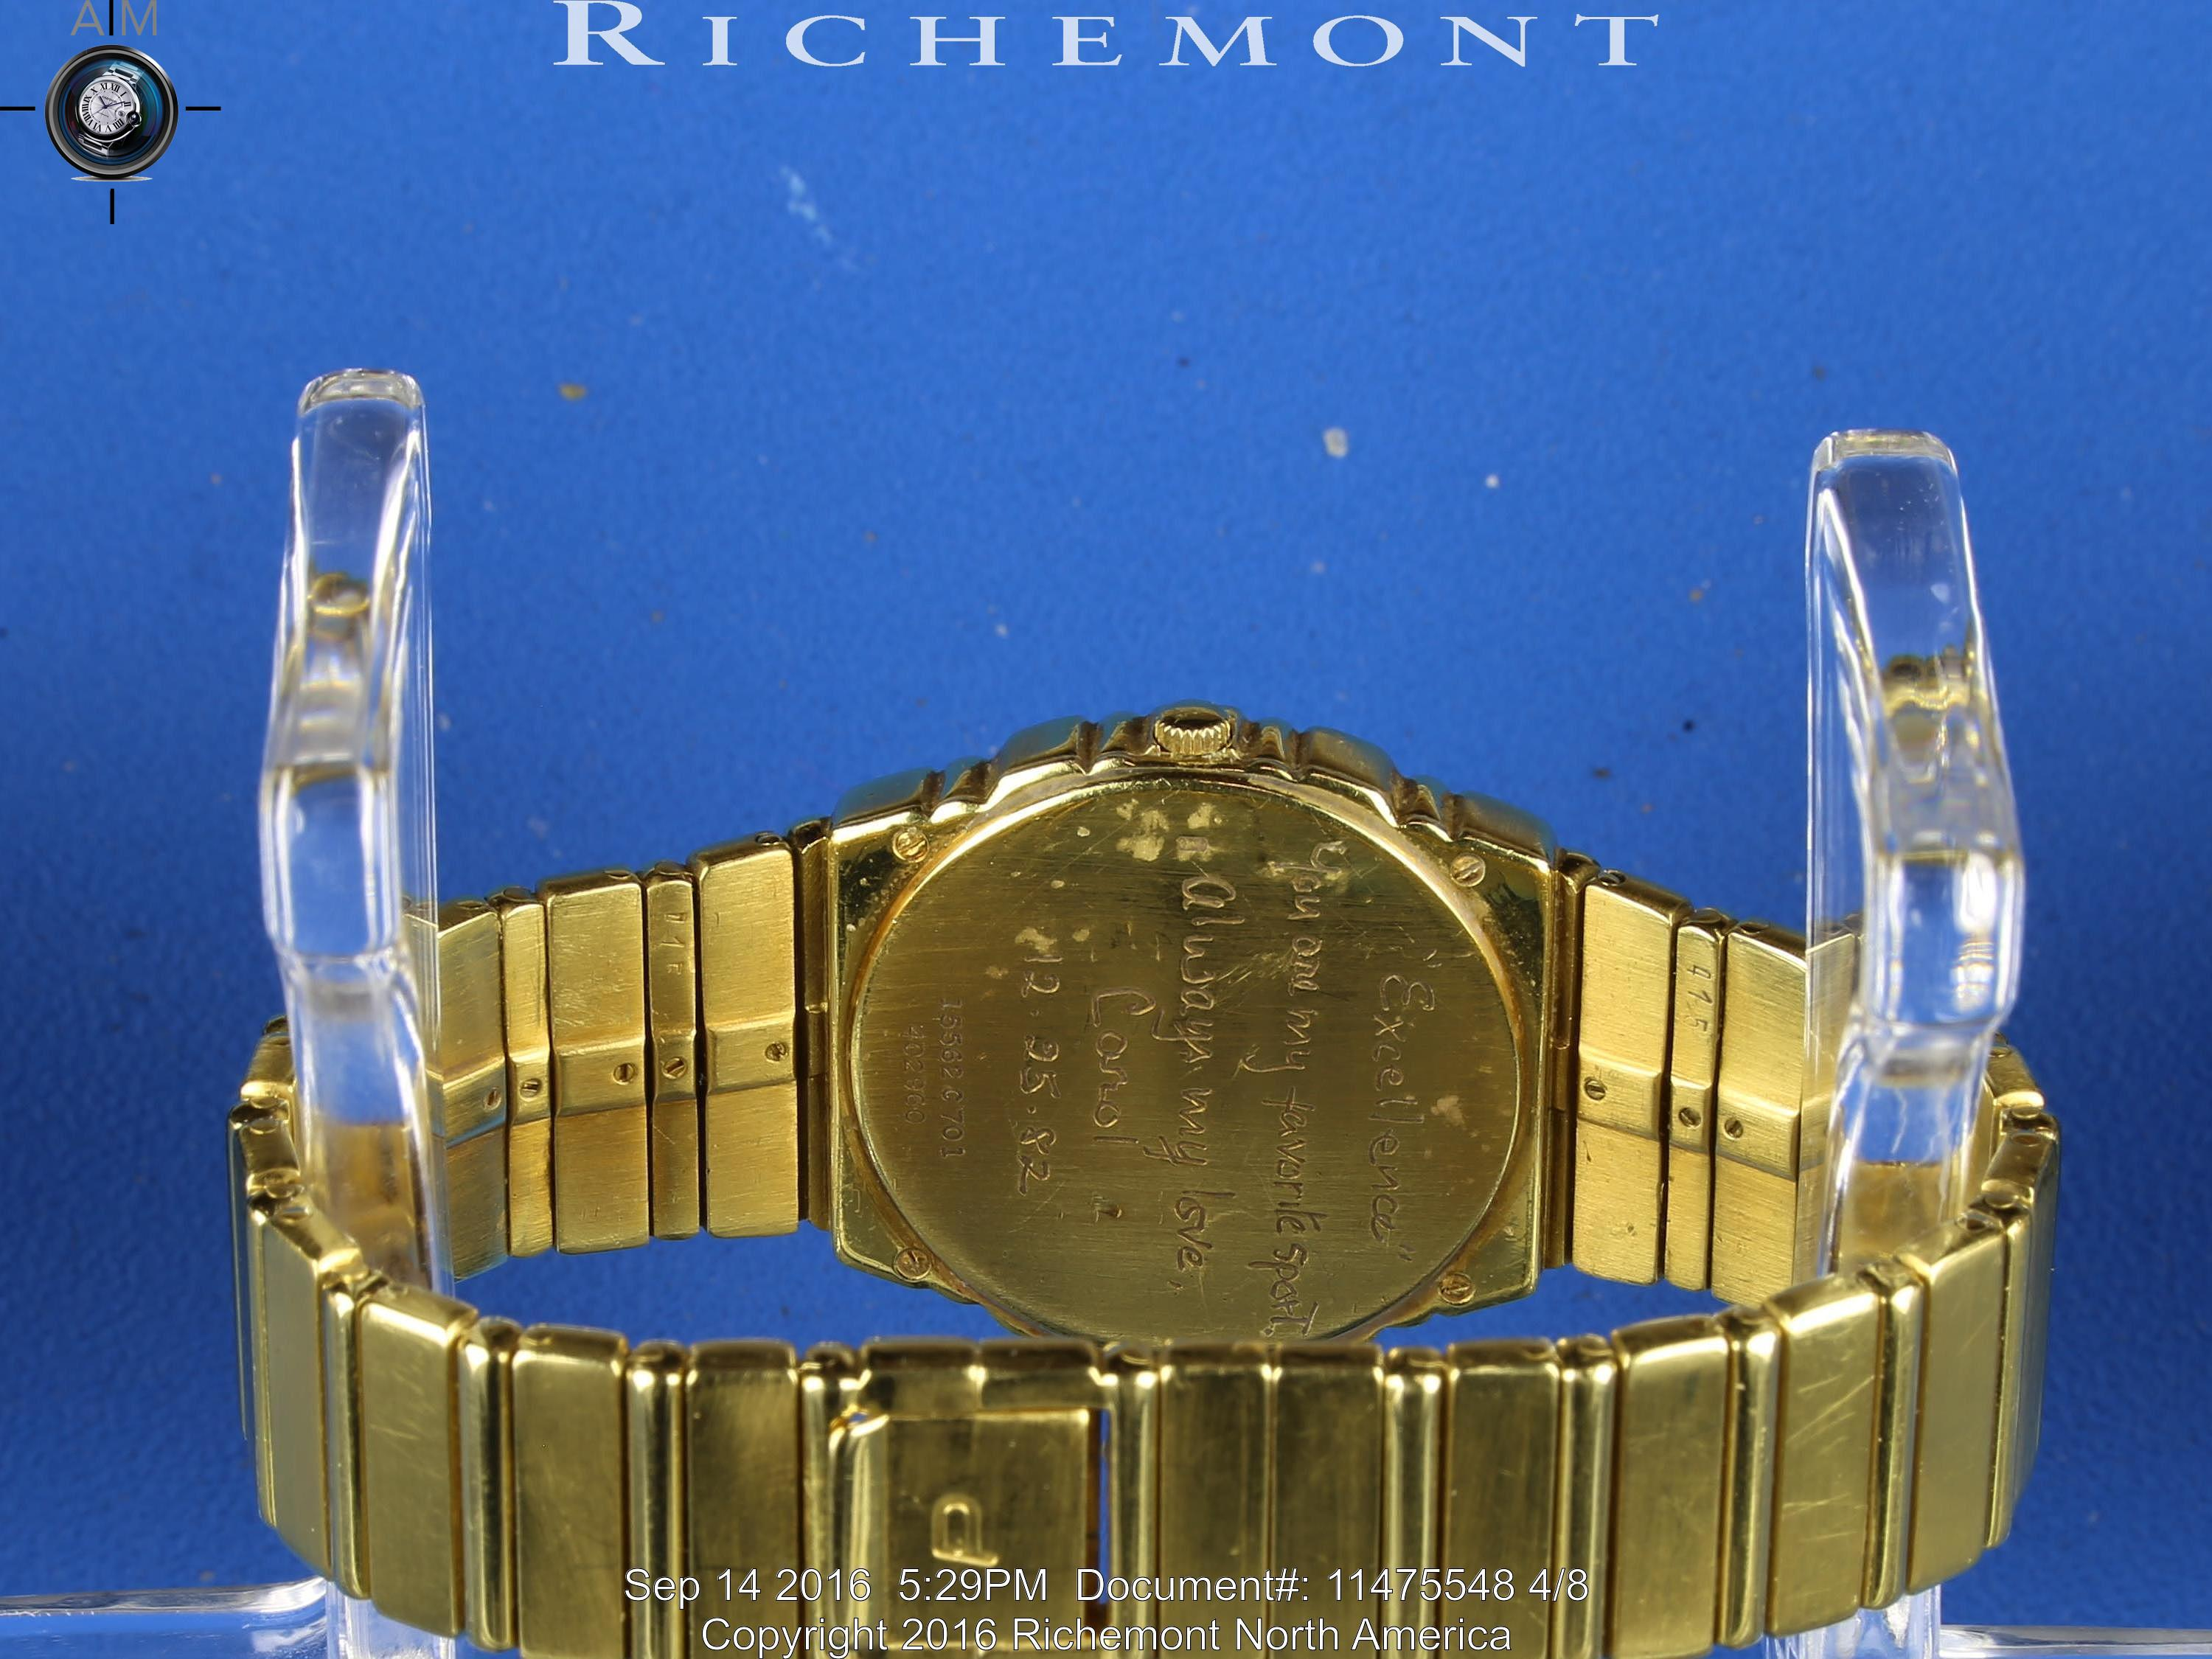Watch BackCase: (824, 690, 1575, 1342)
